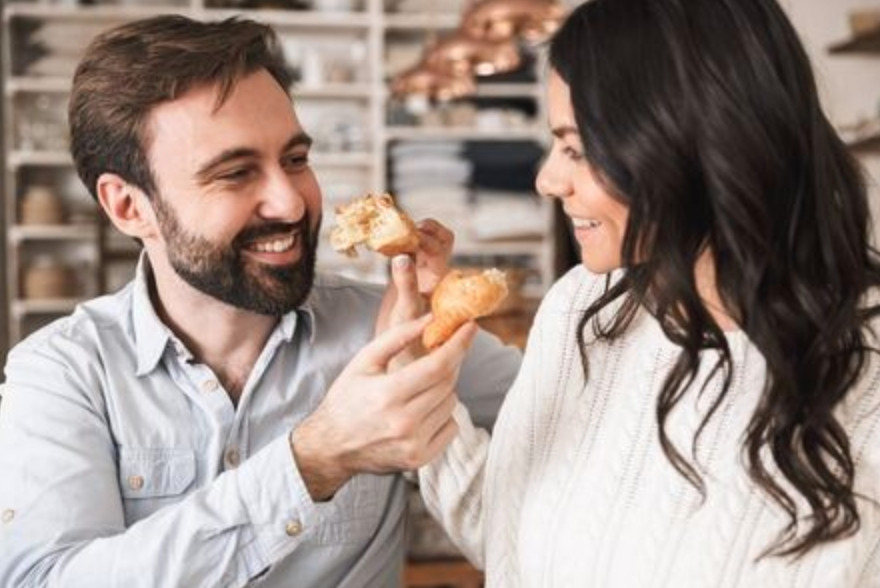Bad: (1, 1, 880, 586)
